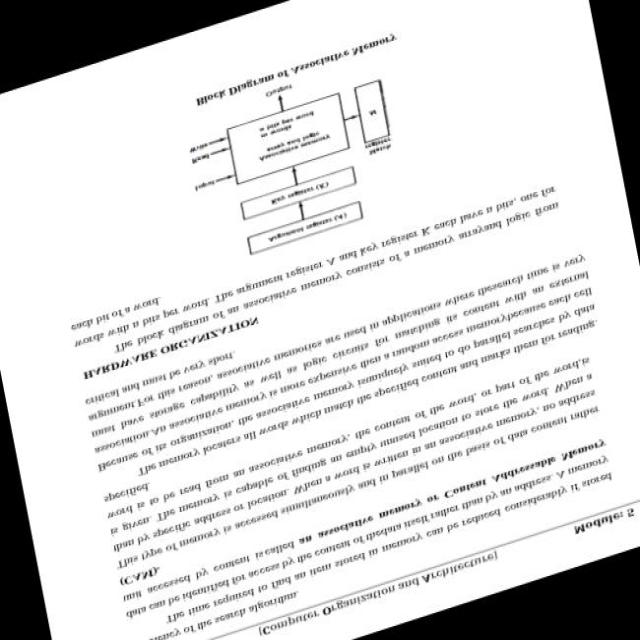Figure Detection - v3 Dataset Version2: (165, 40, 446, 285)
